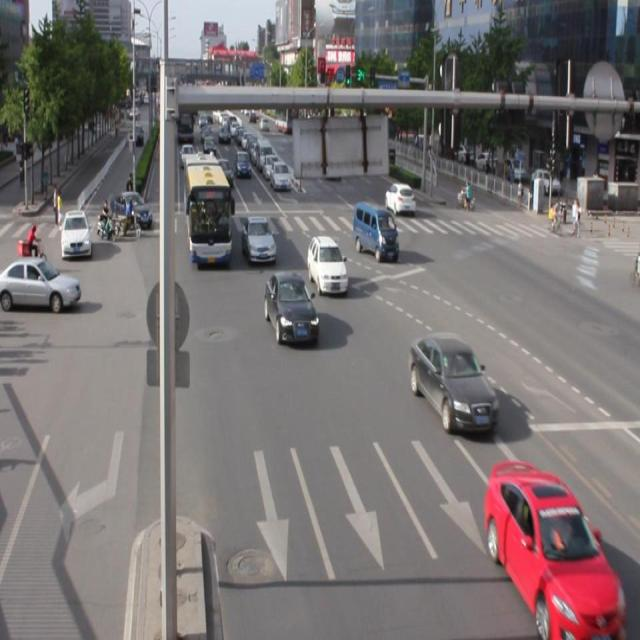car: (485, 460, 624, 640), (408, 332, 497, 434), (264, 269, 318, 346), (306, 235, 348, 292), (241, 213, 276, 264)
truck: (352, 201, 397, 261)
van: (184, 154, 231, 268)
